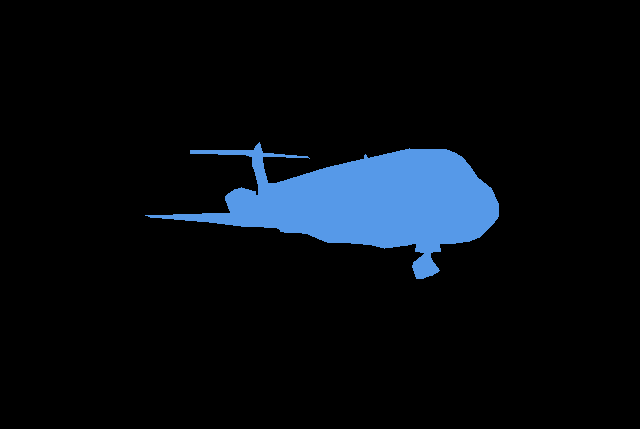Airplane: (145, 142, 498, 278)
